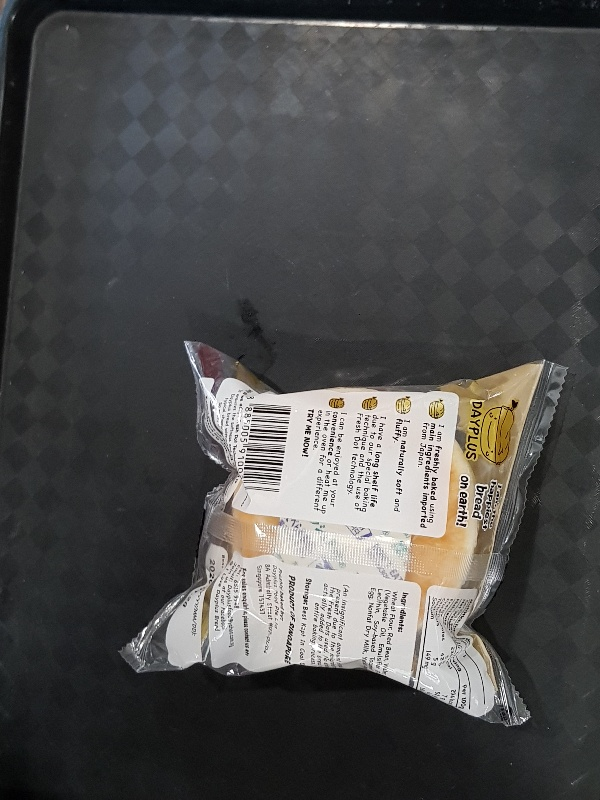Dayplus Red Bean: (116, 338, 567, 726)
